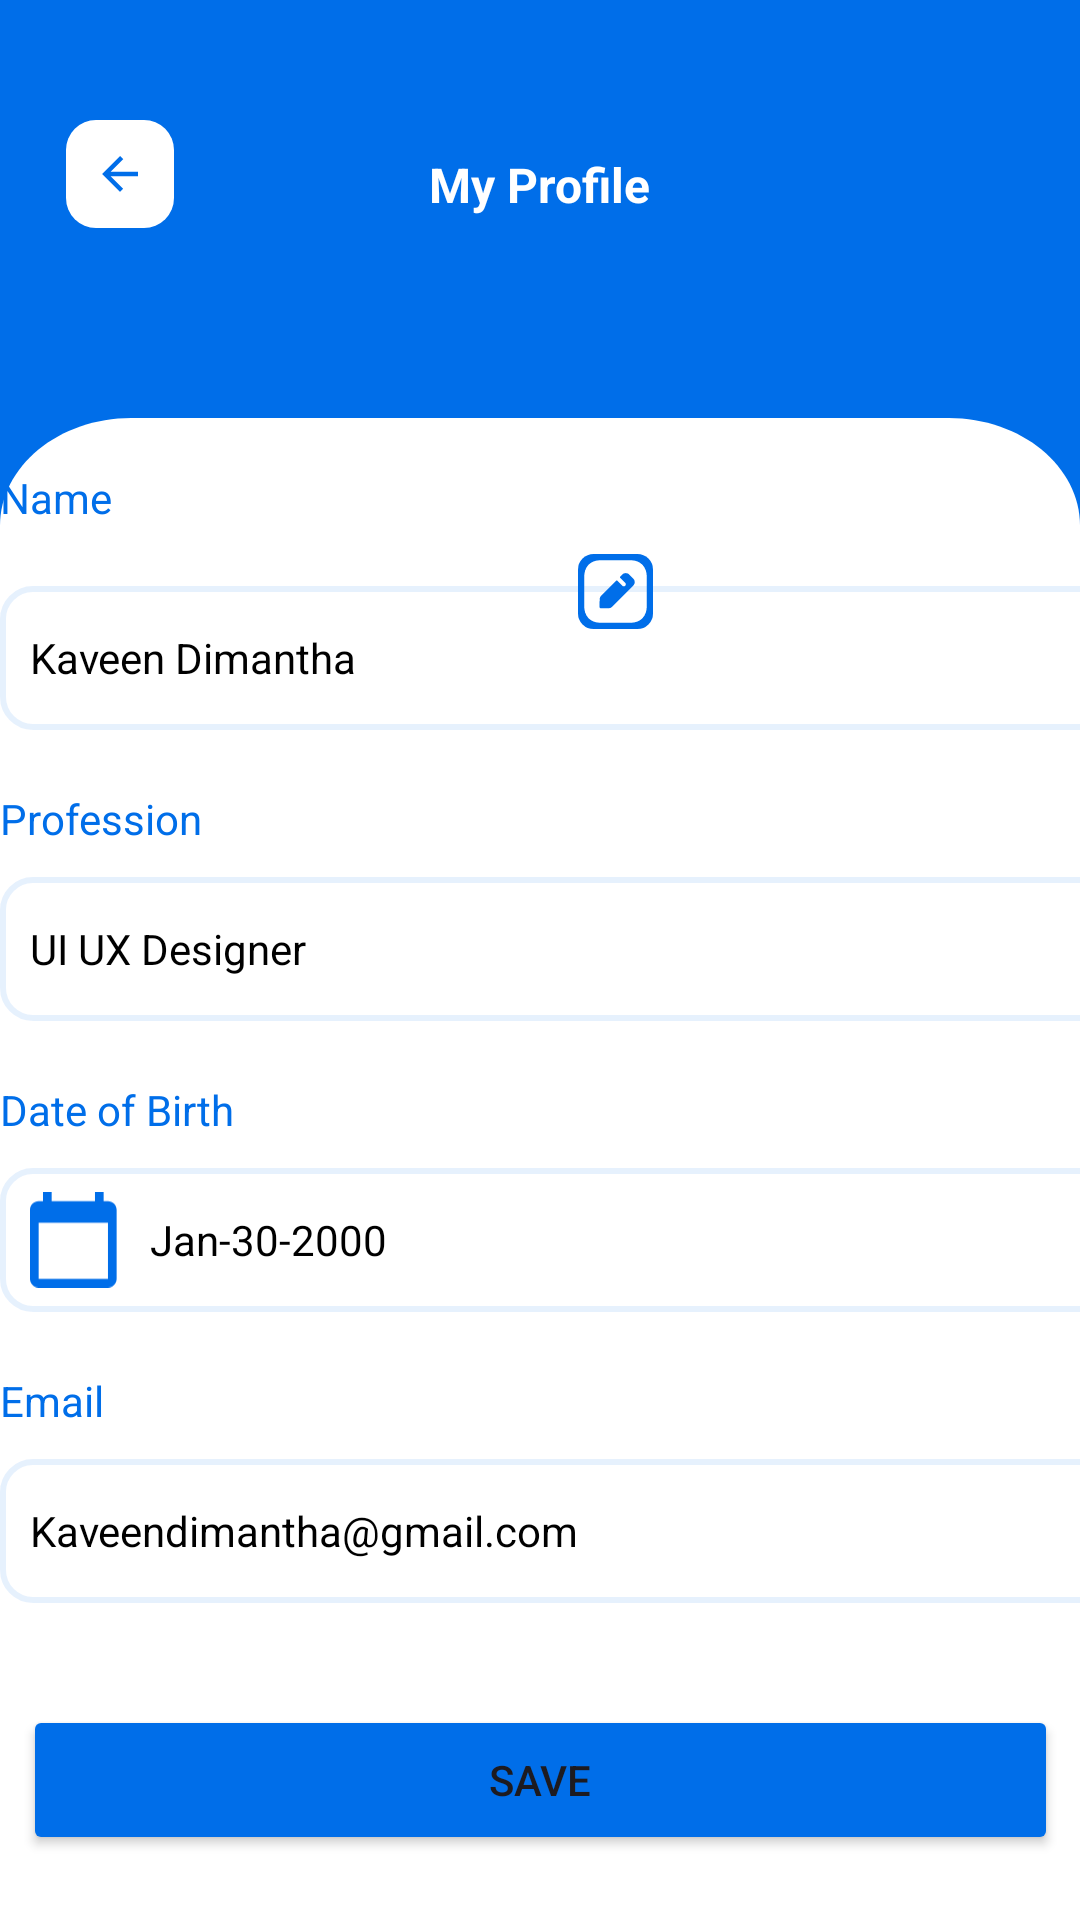

Point at icon controls on the screen. Image size 1080×1920, points as [x,y].
bacwhite: [120,174]
calendervicter: [73,1240]
editbtn: [615,591]
